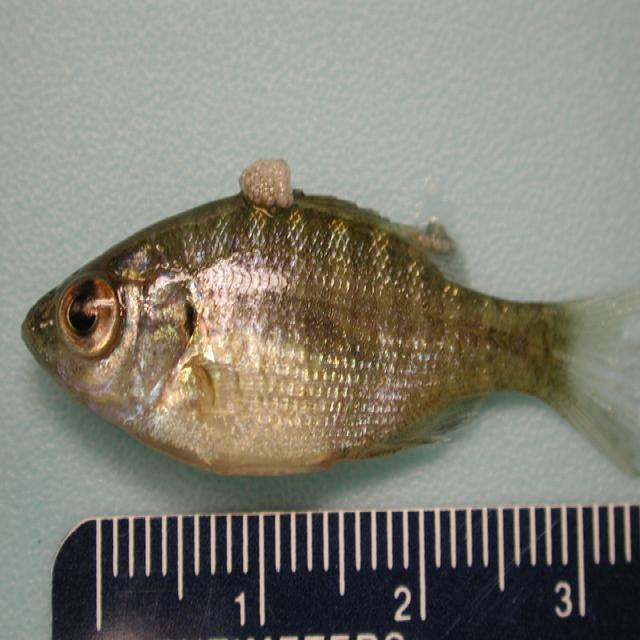EUS Disease: (21, 156, 636, 496), (197, 151, 465, 264)
